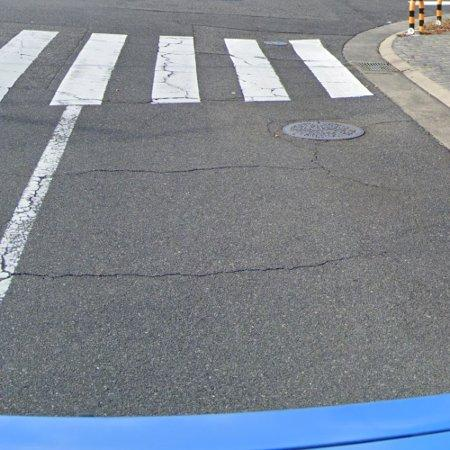crosswalks: (0, 31, 382, 107)
